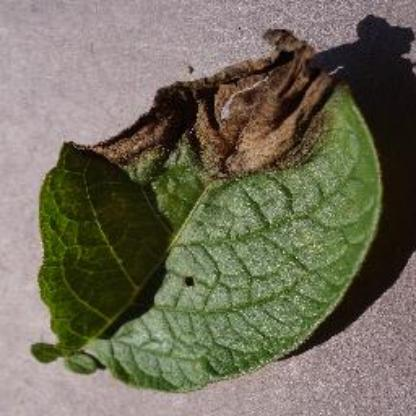Late-Blight: (15, 22, 389, 402)
